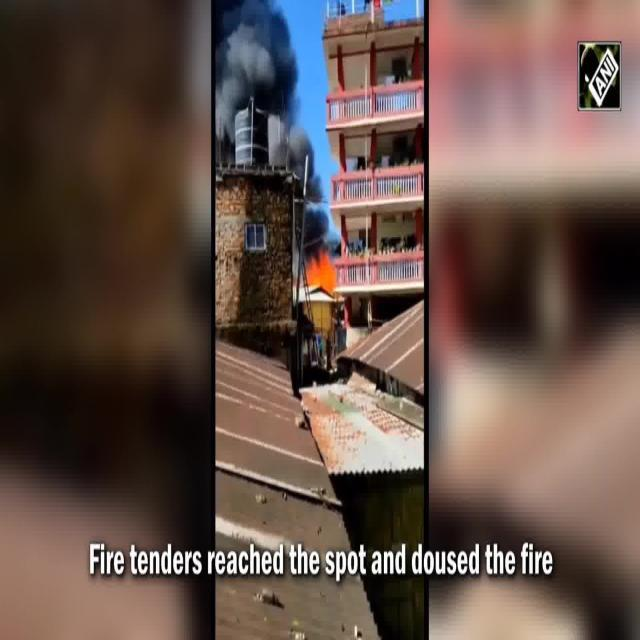Fire: (308, 252, 337, 287)
Smoke: (215, 2, 290, 105), (292, 117, 327, 235)
